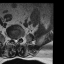CCS_severe_stenosis: (15, 37, 16, 44)
LFS_severe_stenosis: (18, 35, 20, 41)
LLS_normal: (17, 37, 18, 43)
RFS_severe_stenosis: (11, 36, 13, 42)
RLS_normal: (13, 37, 15, 43)
